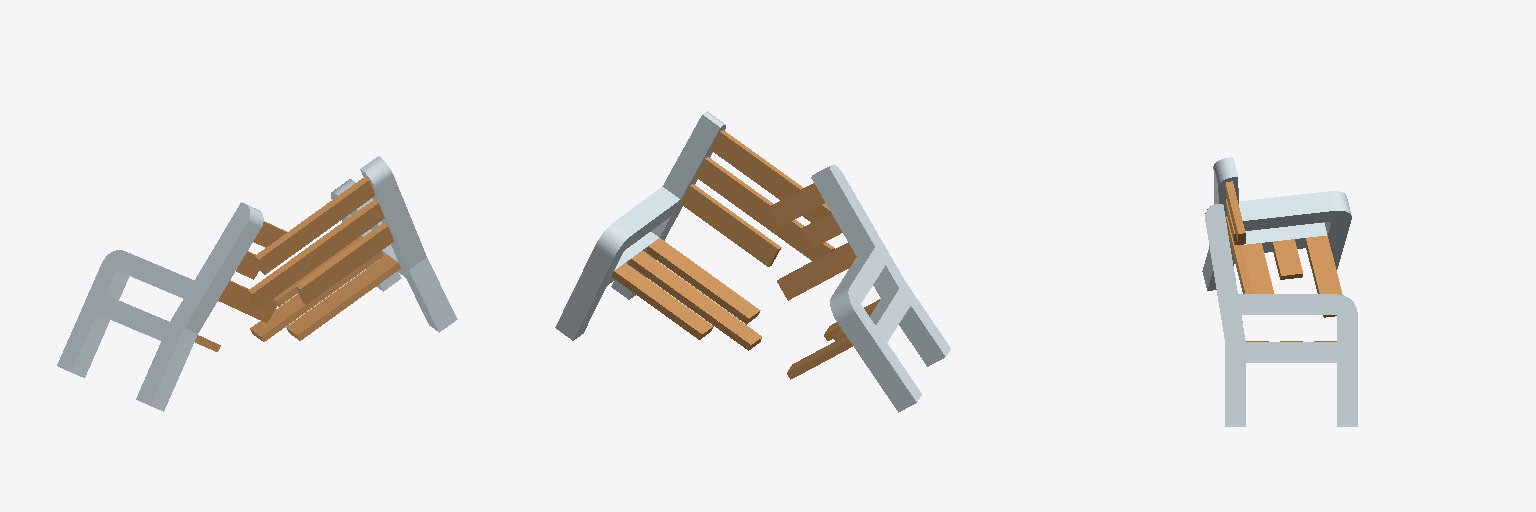
The model's file is benchBroken.obj.
The picture shows the model from 3 angles: view 1: azimuth 30°, elevation 25°; view 2: azimuth 150°, elevation 25°; view 3: azimuth 270°, elevation 25°; orthographic projection.
Parts seen in each view (by area): view 1: benchBroken %8angles; view 2: benchBroken %8angles; view 3: benchBroken %8angles.
Part boxes in pixels (x1,y1,x2,y2): benchBroken %8angles: (57,156,457,411); benchBroken %8angles: (555,111,950,412); benchBroken %8angles: (1202,157,1357,426).
Bounding box in the file's own units: 0.9902 × 0.5319 × 0.3829.